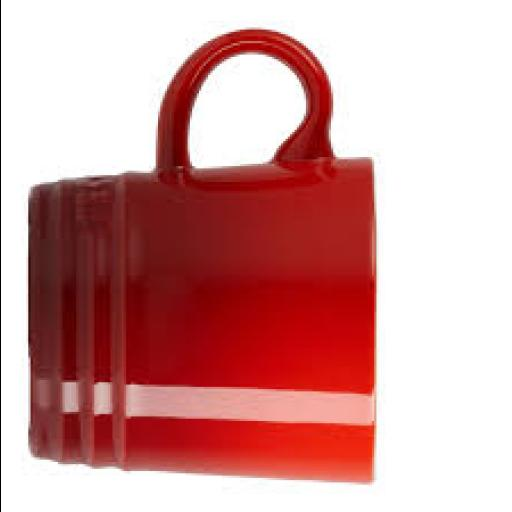red mug: (30, 29, 373, 481)
